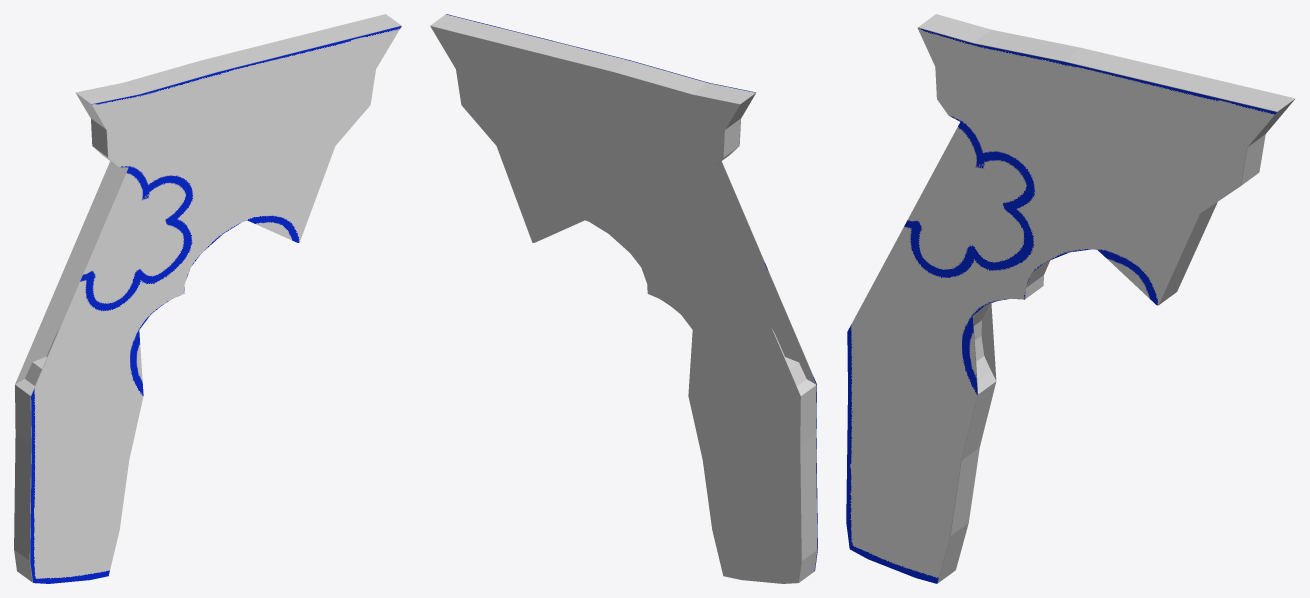
3 renders of one model, left to right at view 1: azimuth 30°, elevation 25°; view 2: azimuth 150°, elevation 25°; view 3: azimuth 330°, elevation 25°, orthographic. The views are drawn at different scales.
Visible parts, largest first — view 1: Out_2_1, Out_2_0; view 2: Out_2_0, Out_2_1; view 3: Out_2_1, Out_2_0.
Part boxes in pixels (box(x1,y1,x2,y2)): Out_2_1: box(30, 26, 401, 583); Out_2_0: box(14, 14, 401, 582); Out_2_0: box(430, 14, 817, 583); Out_2_1: box(446, 14, 817, 570); Out_2_1: box(846, 28, 1276, 583); Out_2_0: box(918, 14, 1295, 583).
Size of the model in its own units: 6.83 by 8.4 by 0.515.
Materials: 2 (1 with a texture image).
